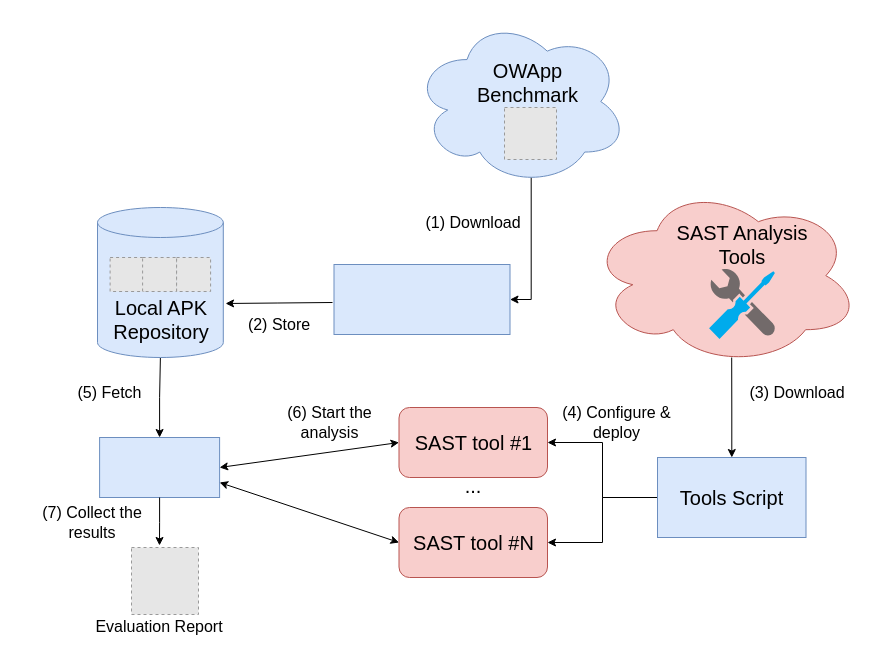
Some shapes in this 877 by 659 pixel diagram are drawn without their labels. Grey dashed boxes stand in for pictures. The centre of each missing label's shape, as x and y in pixels:
Download Script: point 421,299
Running Script: point 159,467
